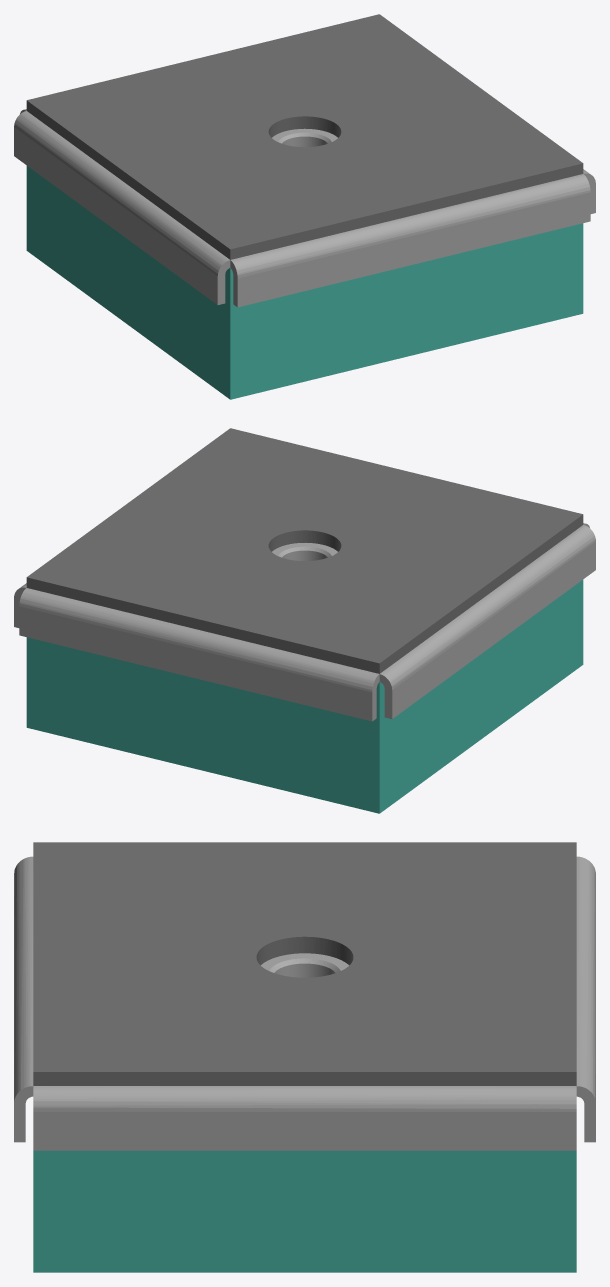
Rendered from TSR.fbx.
The picture shows the model from 3 angles, top to bottom: view 1: azimuth 30°, elevation 25°; view 2: azimuth 150°, elevation 25°; view 3: azimuth 270°, elevation 25°; orthographic projection. The views are drawn at different scales.
Parts seen in each view (by area): view 1: TSR; view 2: TSR; view 3: TSR.
Boxes of the visible parts, <box> form: TSR: <box>14,14,595,399</box>; TSR: <box>14,428,595,813</box>; TSR: <box>14,842,595,1272</box>.
Size of the model in its own units: 4.31 by 1.64 by 4.31.
